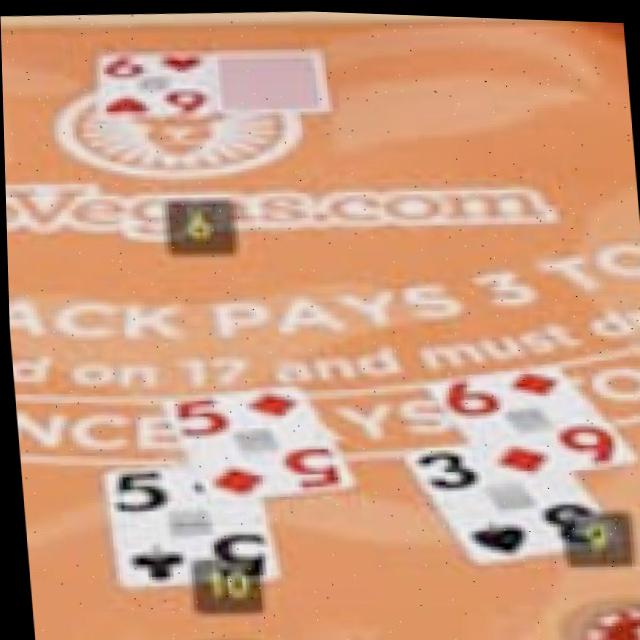Card-3: (402, 441, 616, 563)
Card-5: (158, 379, 355, 499), (100, 465, 277, 585)
Card-6: (426, 358, 636, 479)
